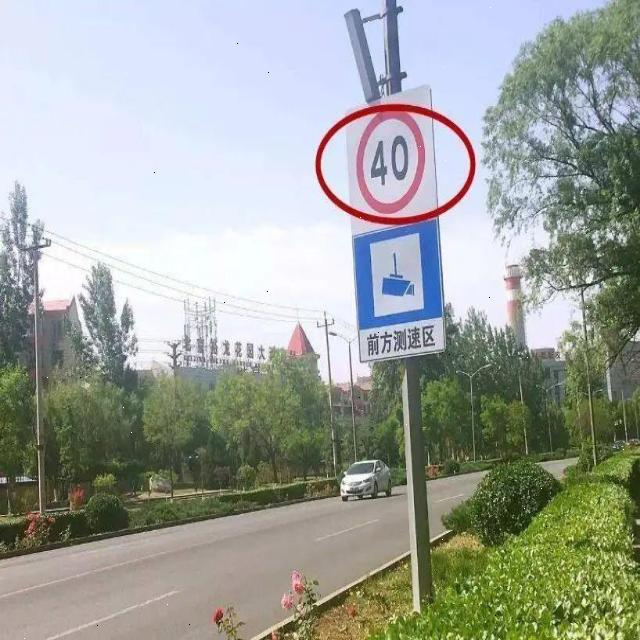speed limit 40: (355, 110, 426, 214)
